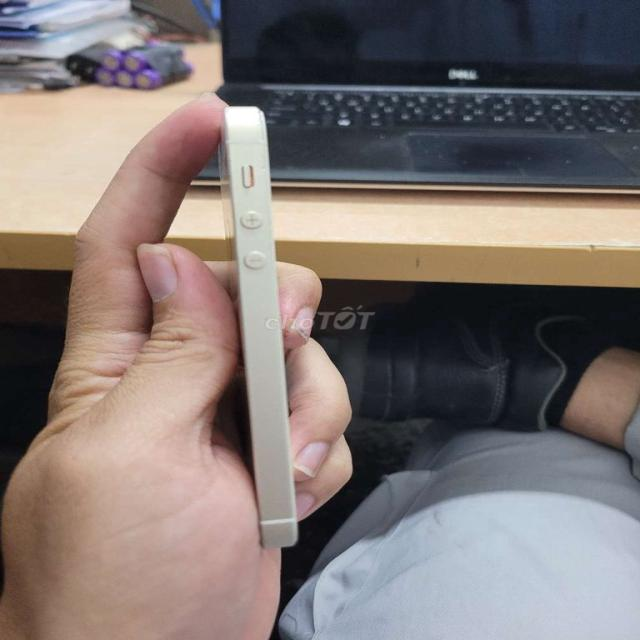gen_6: (218, 107, 297, 547)
